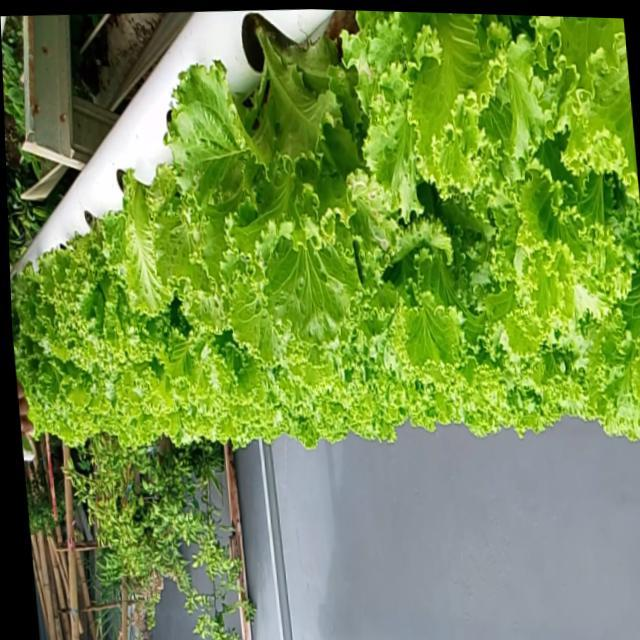Mature: (10, 10, 640, 457), (162, 14, 387, 357), (40, 208, 155, 377)
